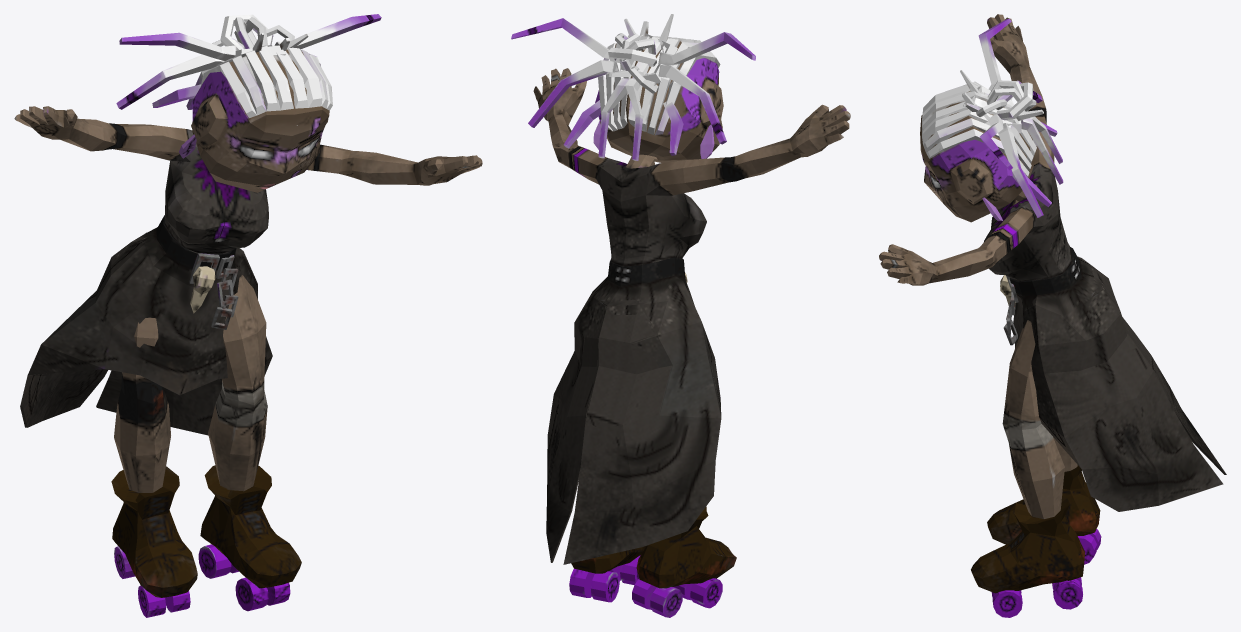
Rendered from bruja_000169.obj.
3 renders of one model, left to right at view 1: azimuth 30°, elevation 25°; view 2: azimuth 150°, elevation 25°; view 3: azimuth 270°, elevation 25°, orthographic. The views are drawn at different scales.
Visible parts, largest first — view 1: Bruja_Plane.001; view 2: Bruja_Plane.001; view 3: Bruja_Plane.001.
Boxes of the visible parts, x1,y1,x2,y2 form: Bruja_Plane.001: (14,14,482,617); Bruja_Plane.001: (511,14,850,617); Bruja_Plane.001: (879,14,1226,617).
Size of the model in its own units: 11.3 by 16.37 by 9.65.
